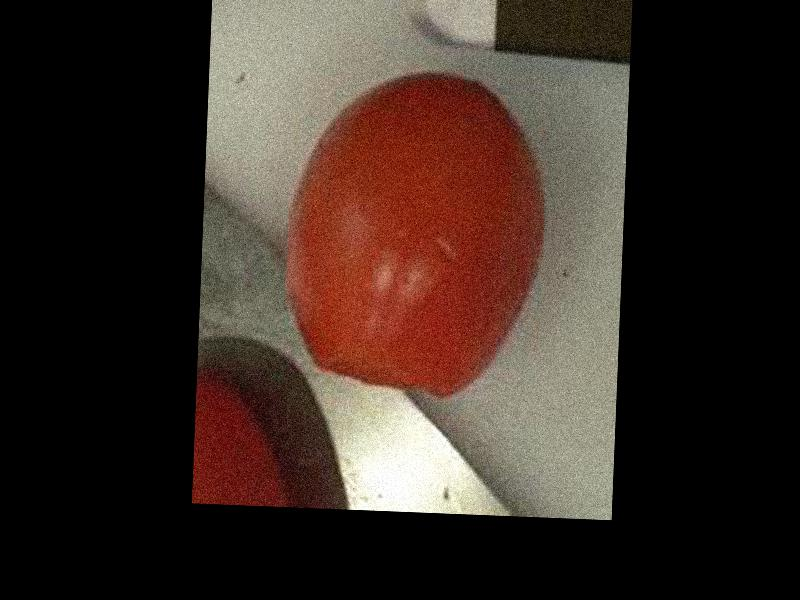Tomato: (279, 66, 549, 400)
